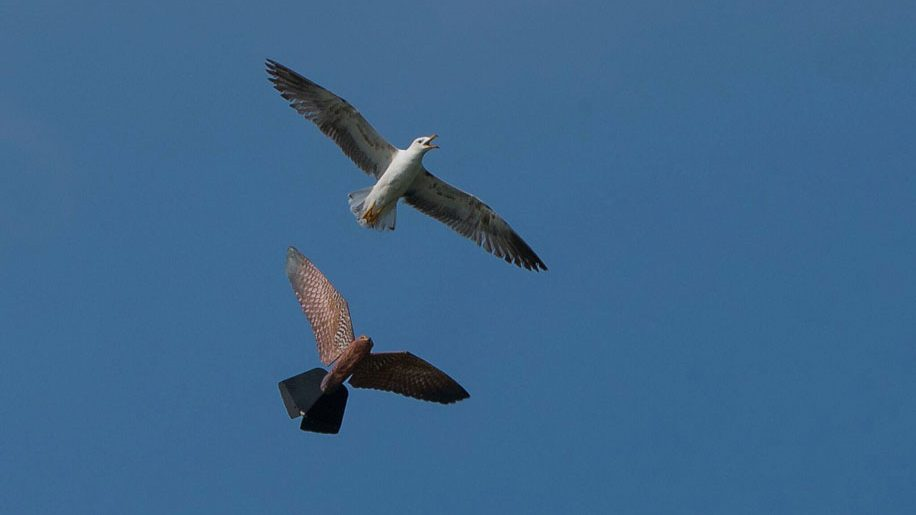Bird: (259, 52, 552, 287), (272, 238, 477, 440)
